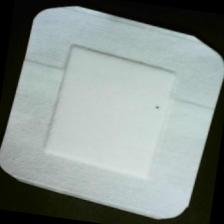Dressing: (1, 1, 224, 224)
F_Body: (143, 97, 168, 123)
